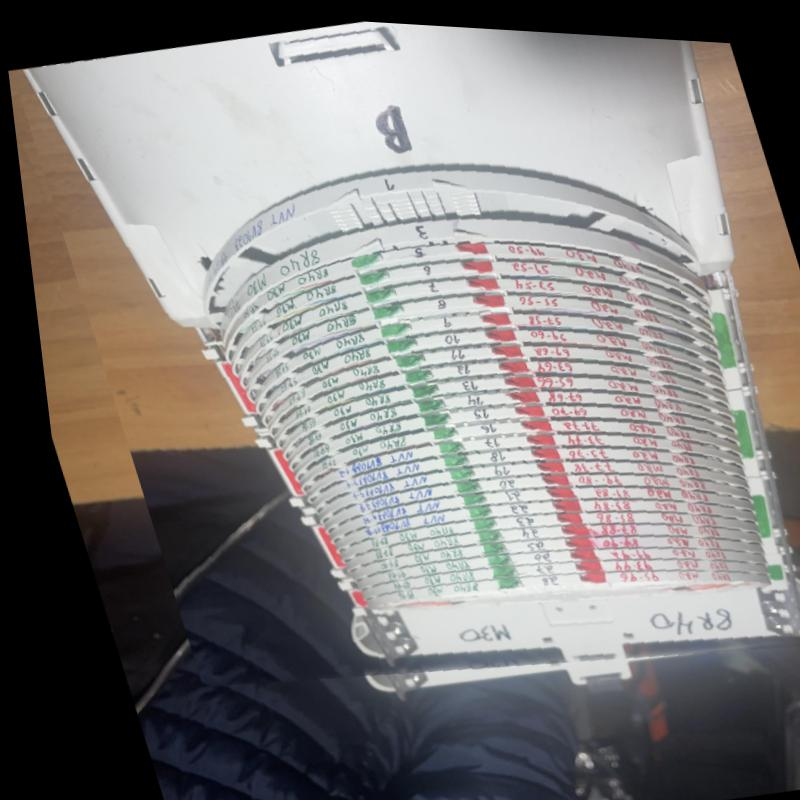NT-Muffen: (12, 17, 800, 674)
